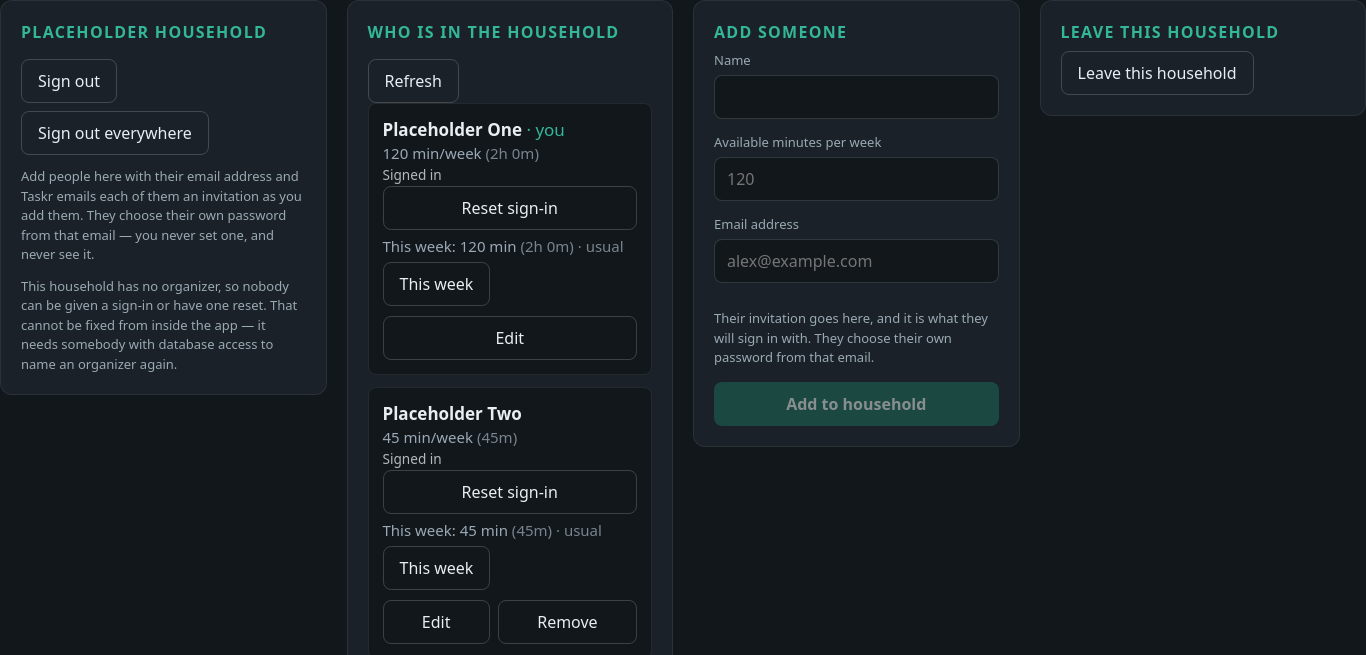
Test: the organizer leaving: hand it over or delete it, in one confirm (#431) › #180 AC 3 — says what the hand-over-and-leave costs, the same losses a member reads
Click the button "Leave this household" at (1157, 73), box [1060,51,1254,95]
(page scrolled)
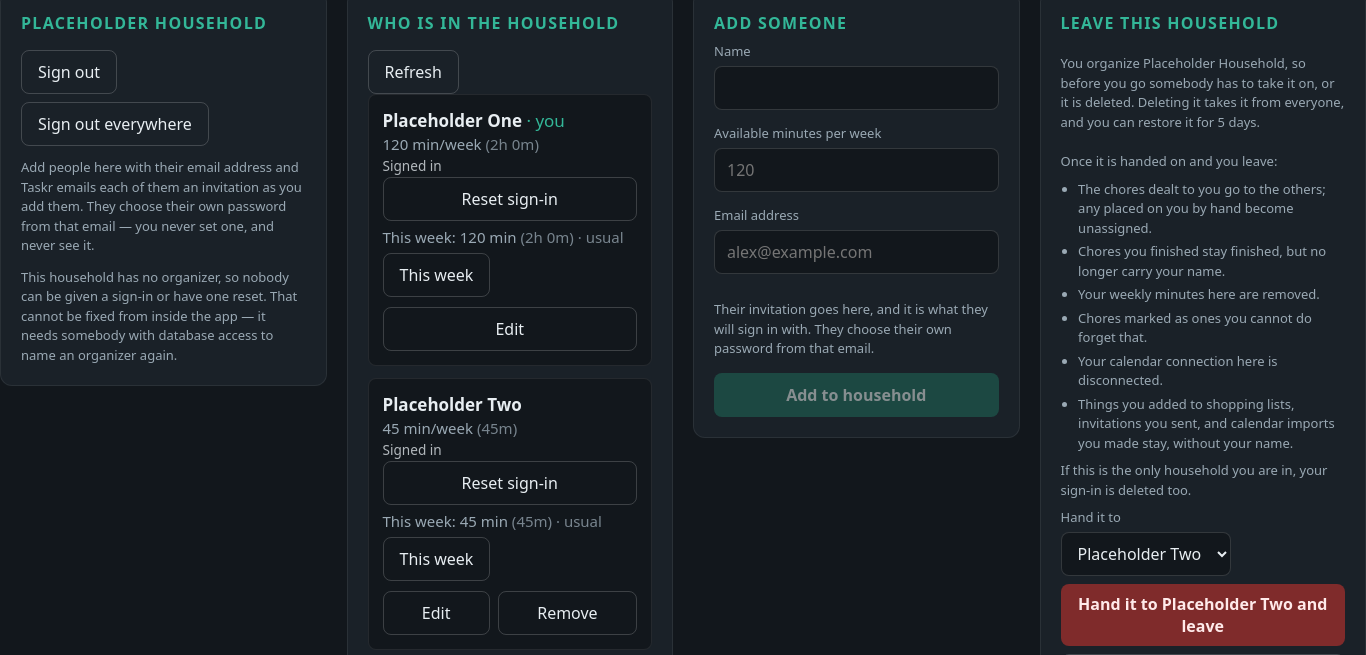
Expected: the element with test id "leave-household-losses" shows "Once it is handed on and you leave", [1060,152,1277,170]
Expected: the element with test id "leave-household-losses" shows "no longer carry your name", [1078,242,1326,280]
Expected: the element with test id "leave-household-losses" shows "your weekly minutes here are removed", [1078,285,1320,303]
